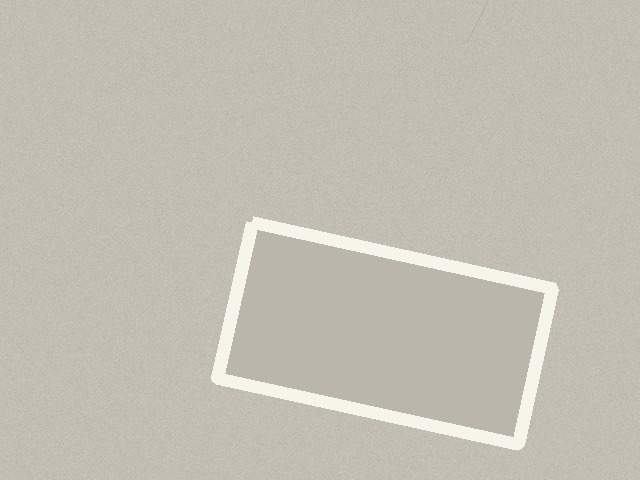parking_area: (217, 222, 552, 444)
